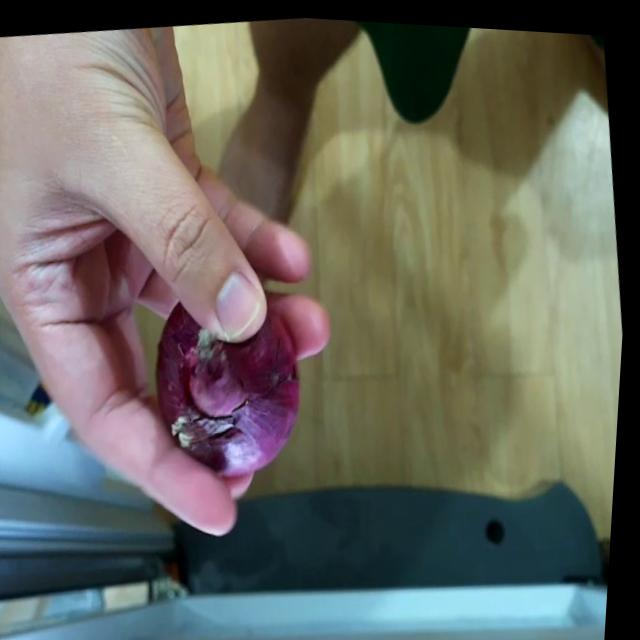onion: (147, 288, 320, 477)
